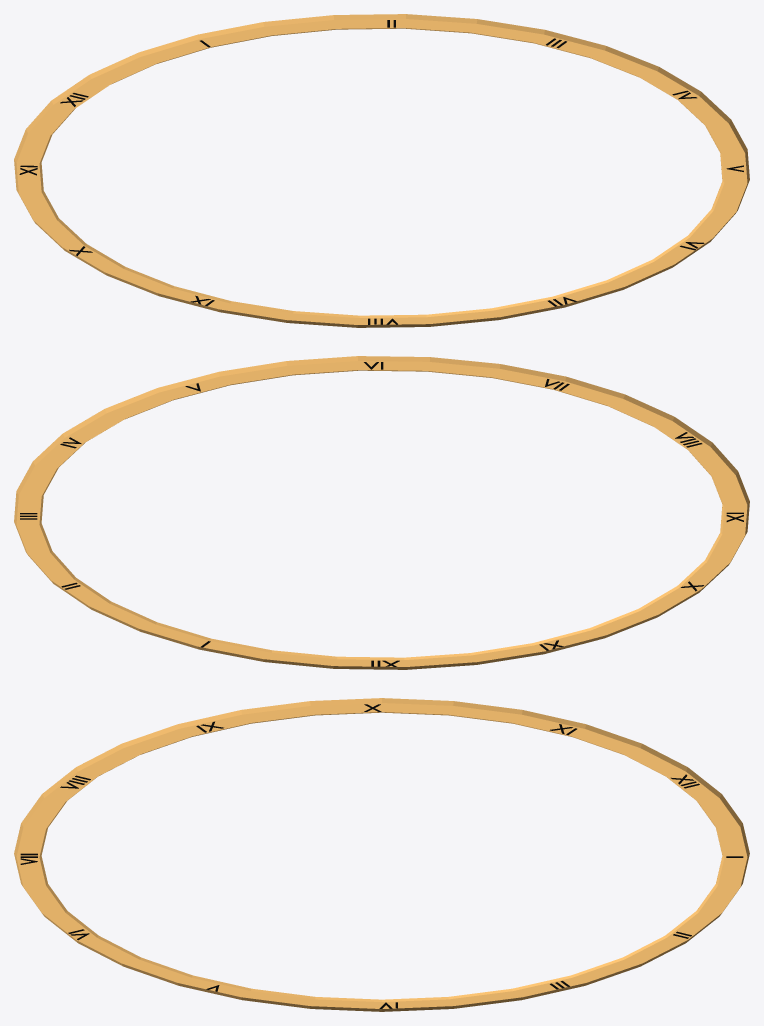
Rendered from Clock_dial.gltf.
3 views of the same model, one above another, from view 1: azimuth 30°, elevation 25°; view 2: azimuth 150°, elevation 25°; view 3: azimuth 270°, elevation 25° (orthographic).
Visible parts, largest first — view 1: Circle.012; view 2: Circle.012; view 3: Circle.012.
Part boxes in pixels (x1,y1,x2,y2): Circle.012: [14, 14, 749, 327]; Circle.012: [14, 356, 749, 669]; Circle.012: [14, 698, 749, 1011].
Size of the model in its own units: 252 by 1.48 by 252.
